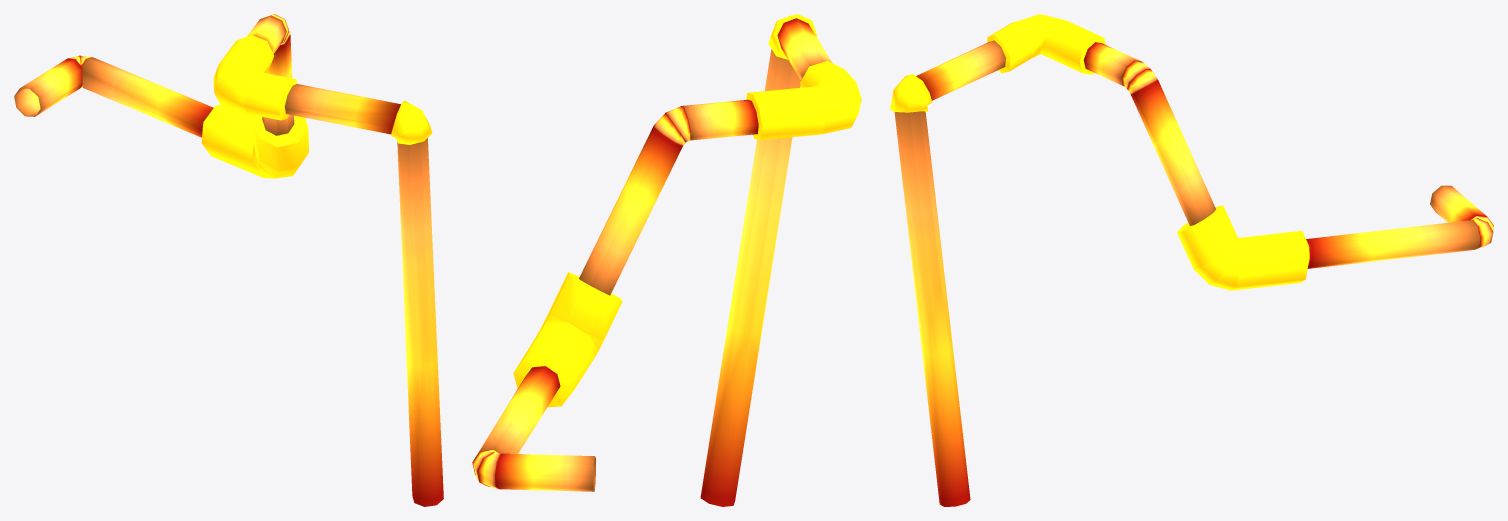
File: Cano2Texture.fbx
3 views of the same model, side by side, from view 1: azimuth 30°, elevation 25°; view 2: azimuth 150°, elevation 25°; view 3: azimuth 270°, elevation 25° (orthographic). The views are drawn at different scales.
Parts seen in each view (by area): view 1: Cano2; view 2: Cano2; view 3: Cano2.
Boxes of the visible parts, x1,y1,x2,y2 form: Cano2: [14, 14, 443, 506]; Cano2: [472, 14, 861, 506]; Cano2: [890, 14, 1493, 506].
Bounding box in the file's own units: 2.34 × 5.35 × 6.96.
